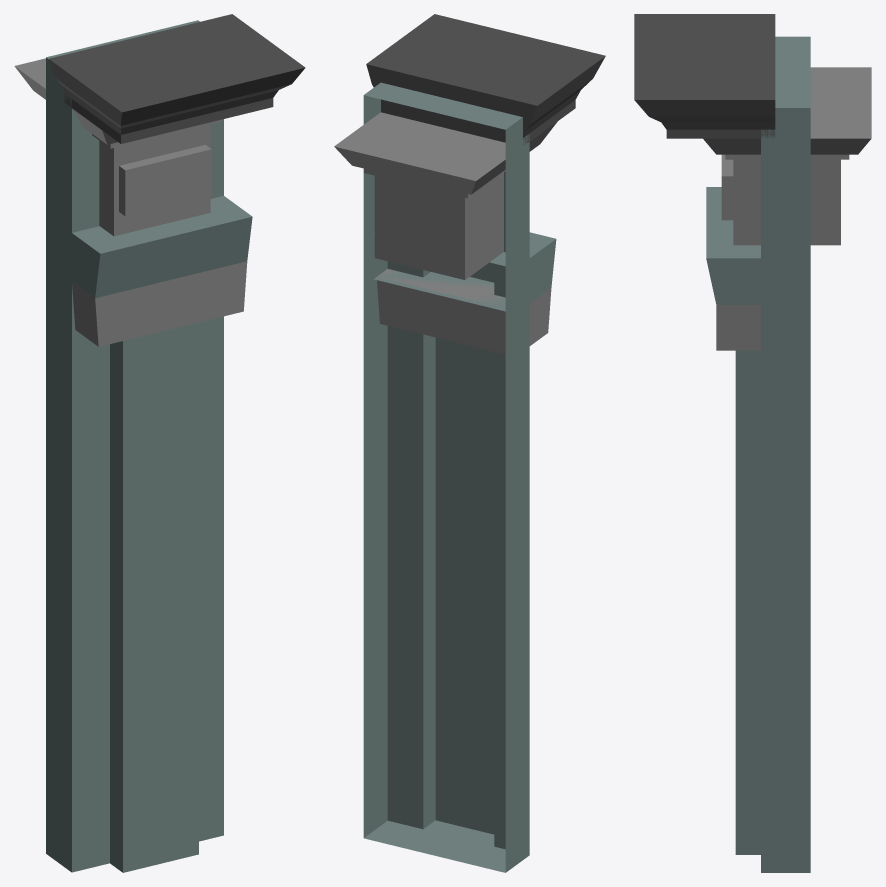
The model's file is SM_Build01_Column_02.fbx.
3 views of the same model, side by side, from view 1: azimuth 30°, elevation 25°; view 2: azimuth 150°, elevation 25°; view 3: azimuth 270°, elevation 25° (orthographic). The views are drawn at different scales.
Parts seen in each view (by area): view 1: SM_Build01_Column_02; view 2: SM_Build01_Column_02; view 3: SM_Build01_Column_02.
Part boxes in pixels (x1=…): SM_Build01_Column_02: x1=14, y1=14, x2=305, y2=872; SM_Build01_Column_02: x1=334, y1=14, x2=605, y2=872; SM_Build01_Column_02: x1=634, y1=14, x2=871, y2=872.
Size of the model in its own units: 121 by 510 by 141.
